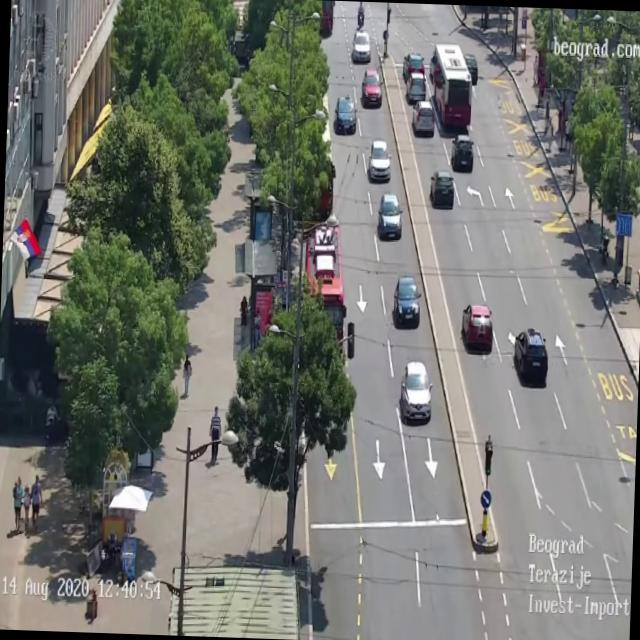bus: (307, 216, 350, 361), (428, 42, 473, 128)
car: (398, 360, 433, 424), (512, 326, 548, 382), (461, 303, 494, 353), (392, 274, 421, 328), (376, 191, 403, 240), (366, 138, 392, 182), (428, 169, 454, 209), (359, 65, 383, 104), (450, 134, 474, 172), (334, 96, 356, 137), (413, 100, 434, 130), (406, 70, 424, 102), (354, 27, 370, 62), (401, 52, 422, 74), (466, 53, 480, 84)
